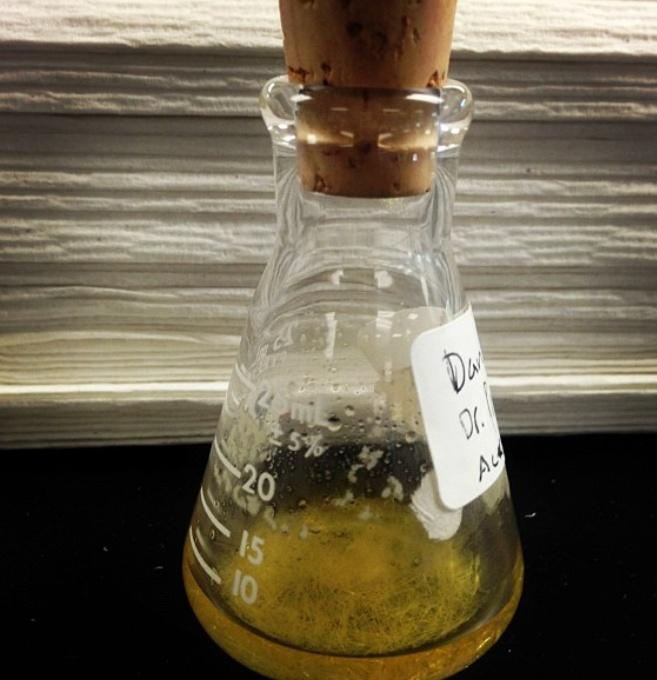Titrarion: (175, 80, 554, 678)
